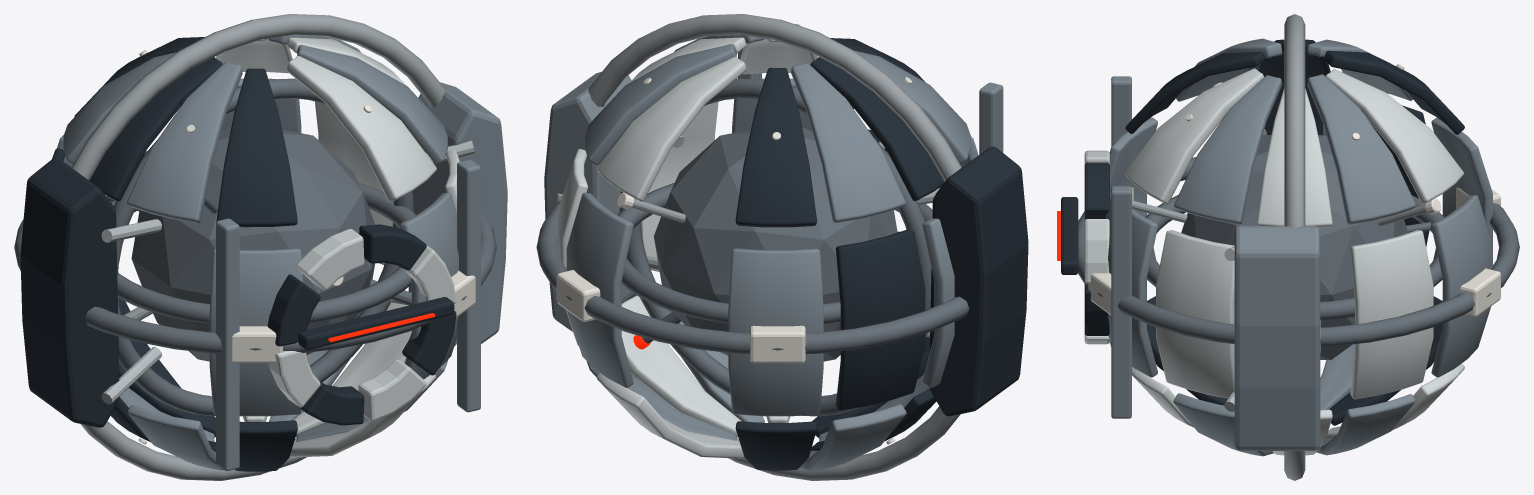
Rendered from orbit-test-balanced.glb.
The picture shows the model from 3 angles, left to right: view 1: azimuth 30°, elevation 25°; view 2: azimuth 150°, elevation 25°; view 3: azimuth 270°, elevation 25°; orthographic projection. The views are drawn at different scales.
Visible parts, largest first — view 1: Test_MID_MetrologyYoke_00, Test_MID_Core, Test_MID_Ring_1, Test_MID_Shell_B_ArmourTile_00_03, Test_MID_Shell_B_ArmourTile_00_04, Test_MID_MetrologyYoke_01, Test_MID_Shell_A_ArmourTile_00_00, Test_MID_Shell_B_ArmourTile_01_04, Test_MID_LoadRing_1, Test_MID_MetrologyRail_0, Test_MID_MetrologyRail_1, Test_MID_LoadRing_0 (+34 smaller); view 2: Test_MID_MetrologyYoke_00, Test_MID_Core, Test_MID_Ring_1, Test_MID_Shell_B_ArmourTile_01_00, Test_MID_Shell_B_ArmourTile_01_01, Test_MID_Shell_B_ArmourTile_00_00, Test_MID_Ring_0, Test_MID_Shell_B_ArmourTile_00_01, Test_MID_Shell_A_ArmourTile_01_04, Test_MID_Shell_A_ArmourTile_00_04, Test_MID_MetrologyYoke_01, Test_MID_LoadRing_1 (+24 smaller); view 3: Test_MID_MetrologyYoke_01, Test_MID_Shell_A_ArmourTile_01_03, Test_MID_Shell_A_ArmourTile_01_01, Test_MID_Ring_0, Test_MID_Shell_A_ArmourTile_00_03, Test_MID_Shell_A_ArmourTile_00_01, Test_MID_Core, Test_MID_Shell_A_ArmourTile_01_04, Test_MID_Shell_A_ArmourTile_00_00, Test_MID_Shell_A_ArmourTile_00_04, Test_MID_Ring_1, Test_MID_Shell_A_ArmourTile_00_02 (+27 smaller).
Boxes of the visible parts, x1,y1,x2,y2 form: Test_MID_MetrologyYoke_00: (20,157,119,427); Test_MID_Core: (131,127,374,361); Test_MID_Ring_1: (71,14,444,480); Test_MID_Shell_B_ArmourTile_00_03: (127,62,242,223); Test_MID_Shell_B_ArmourTile_00_04: (216,68,297,227); Test_MID_MetrologyYoke_01: (408,82,507,344); Test_MID_Shell_A_ArmourTile_00_00: (286,56,436,201); Test_MID_Shell_B_ArmourTile_01_04: (209,248,303,416); Test_MID_LoadRing_1: (114,78,413,416); Test_MID_MetrologyRail_0: (216,218,239,471); Test_MID_MetrologyRail_1: (457,159,480,412); Test_MID_LoadRing_0: (111,183,415,323); Test_MID_MetrologyYoke_00: (929,146,1028,416); Test_MID_Core: (653,127,897,361); Test_MID_Ring_1: (588,14,961,480); Test_MID_Shell_B_ArmourTile_01_00: (728,248,823,416); Test_MID_Shell_B_ArmourTile_01_01: (836,229,925,410); Test_MID_Shell_B_ArmourTile_00_00: (735,67,816,227); Test_MID_Ring_0: (536,151,969,354); Test_MID_Shell_B_ArmourTile_00_01: (791,63,905,222); Test_MID_Shell_A_ArmourTile_01_04: (566,192,633,387); Test_MID_Shell_A_ArmourTile_00_04: (597,56,746,201); Test_MID_MetrologyYoke_01: (544,71,642,331); Test_MID_LoadRing_1: (619,78,931,416); Test_MID_MetrologyYoke_01: (1234,226,1320,450); Test_MID_Shell_A_ArmourTile_01_03: (1350,230,1433,399); Test_MID_Shell_A_ArmourTile_01_01: (1156,230,1234,398); Test_MID_Ring_0: (1078,157,1519,346); Test_MID_Shell_A_ArmourTile_00_03: (1307,74,1415,224); Test_MID_Shell_A_ArmourTile_00_01: (1174,75,1282,224); Test_MID_Core: (1181,135,1408,359); Test_MID_Shell_A_ArmourTile_01_04: (1431,195,1492,377); Test_MID_Shell_A_ArmourTile_00_00: (1124,68,1263,203); Test_MID_Shell_A_ArmourTile_00_04: (1325,69,1463,203); Test_MID_Ring_1: (1284,14,1305,480); Test_MID_Shell_A_ArmourTile_00_02: (1257,88,1332,227).
Size of the model in its own units: 8.29 by 8.12 by 8.02.
